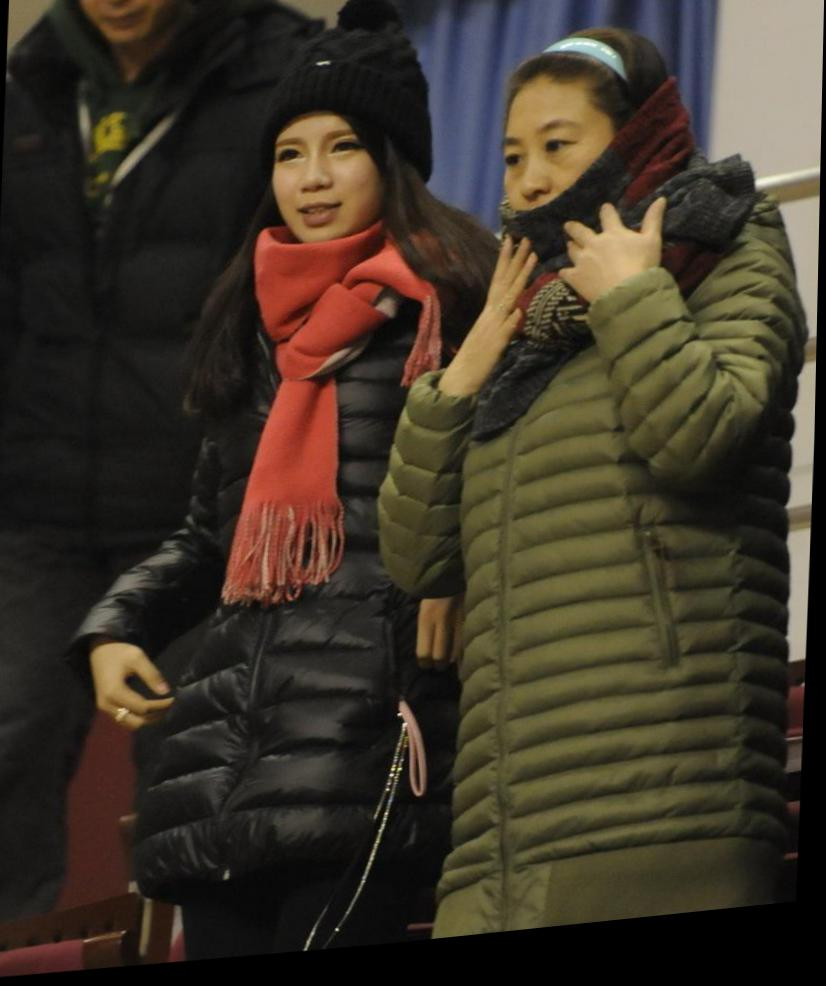NONE: (275, 125, 380, 248), (70, 1, 186, 52)
WRONG: (489, 111, 615, 245)
